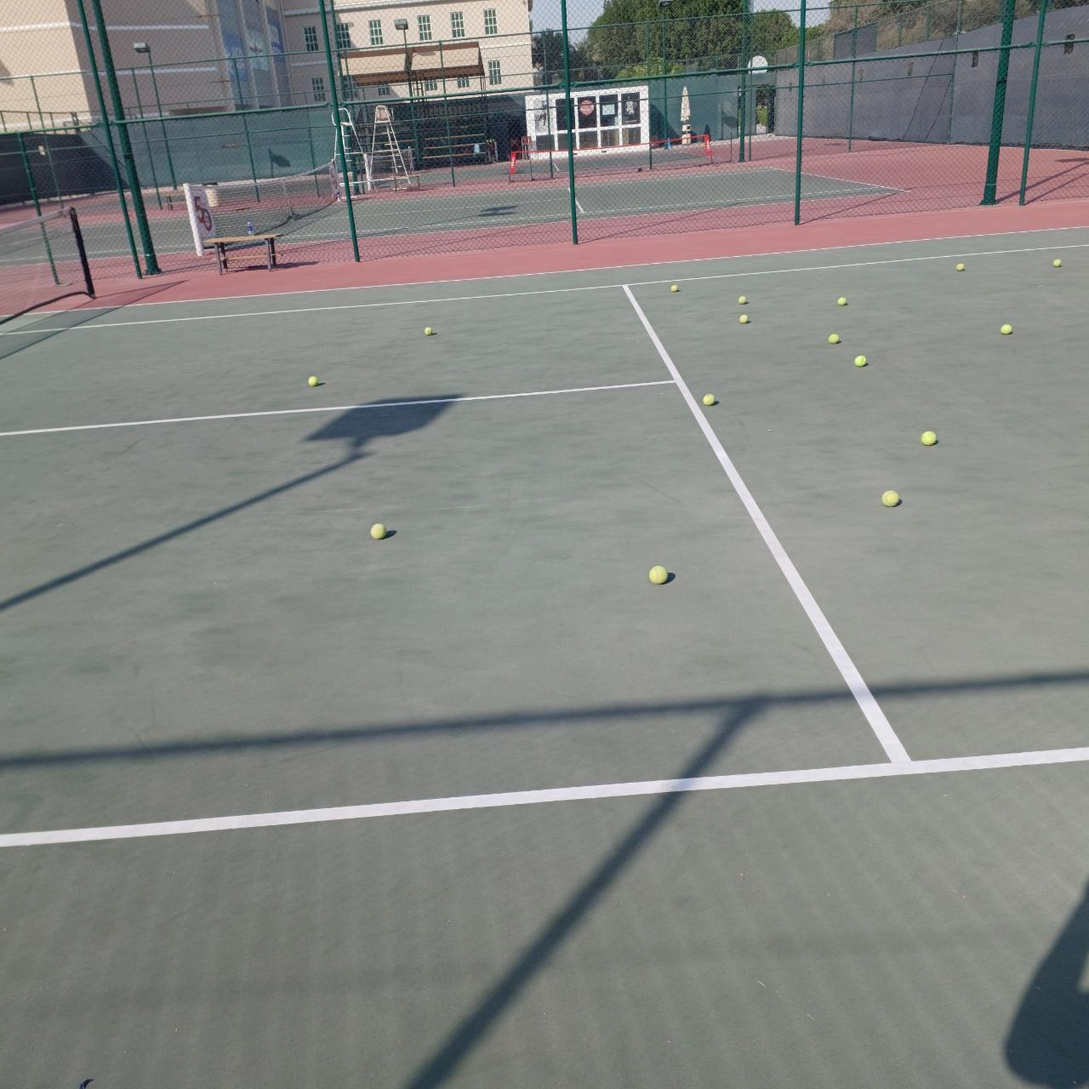tennis-ball: (647, 562, 668, 584), (880, 487, 900, 507), (919, 428, 938, 446), (368, 521, 385, 539), (701, 391, 716, 406), (305, 373, 319, 386), (854, 355, 867, 367), (1000, 323, 1012, 334), (828, 333, 840, 344), (739, 314, 750, 324), (423, 326, 433, 336), (955, 263, 966, 272), (737, 295, 746, 304), (838, 297, 847, 306), (1052, 259, 1062, 267), (670, 284, 678, 292)
